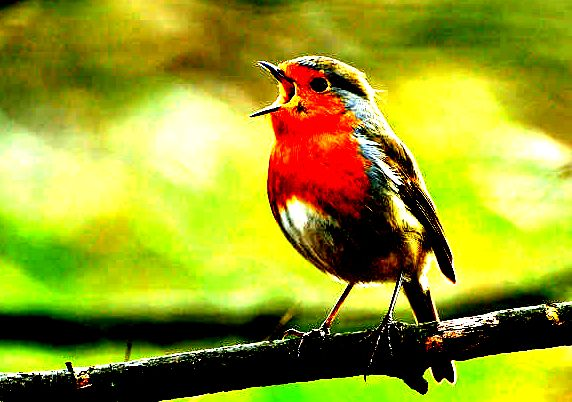Bird: (247, 49, 457, 386)
